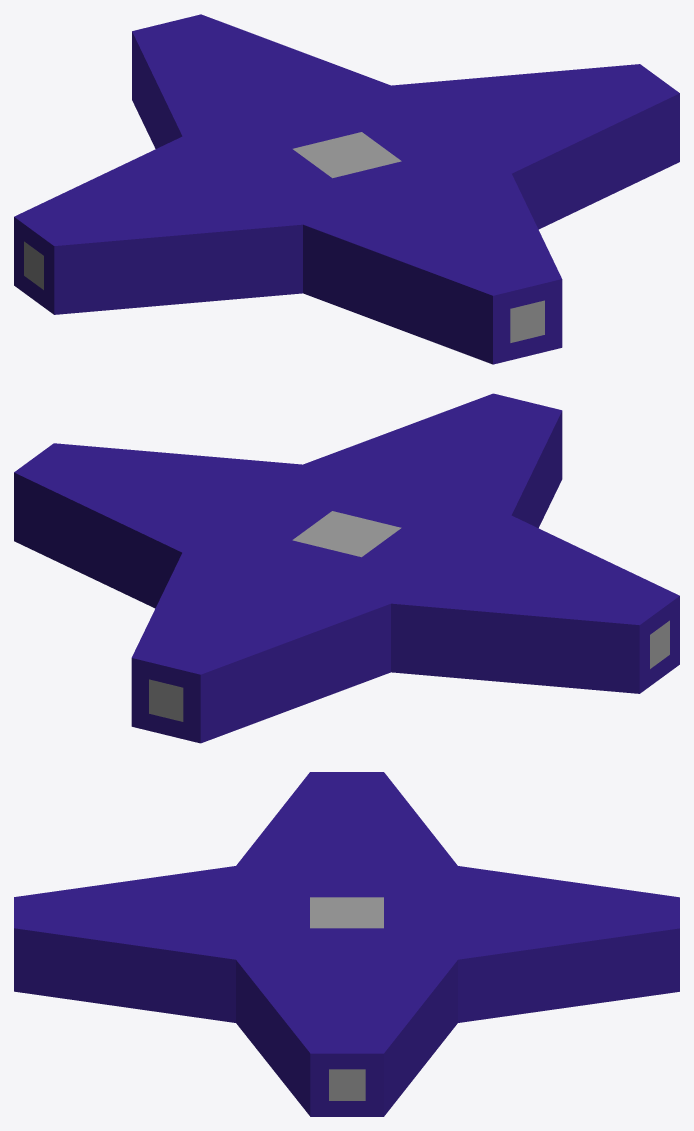
File: Body.glb
3 views of the same model, one above another, from view 1: azimuth 30°, elevation 25°; view 2: azimuth 150°, elevation 25°; view 3: azimuth 270°, elevation 25° (orthographic). The views are drawn at different scales.
Visible parts, largest first — view 1: Cube; view 2: Cube; view 3: Cube.
Boxes of the visible parts, x1=… form: Cube: x1=14, y1=14, x2=679, y2=364; Cube: x1=14, y1=393, x2=679, y2=743; Cube: x1=14, y1=772, x2=679, y2=1116.
Size of the model in its own units: 8 by 0.84 by 8.
